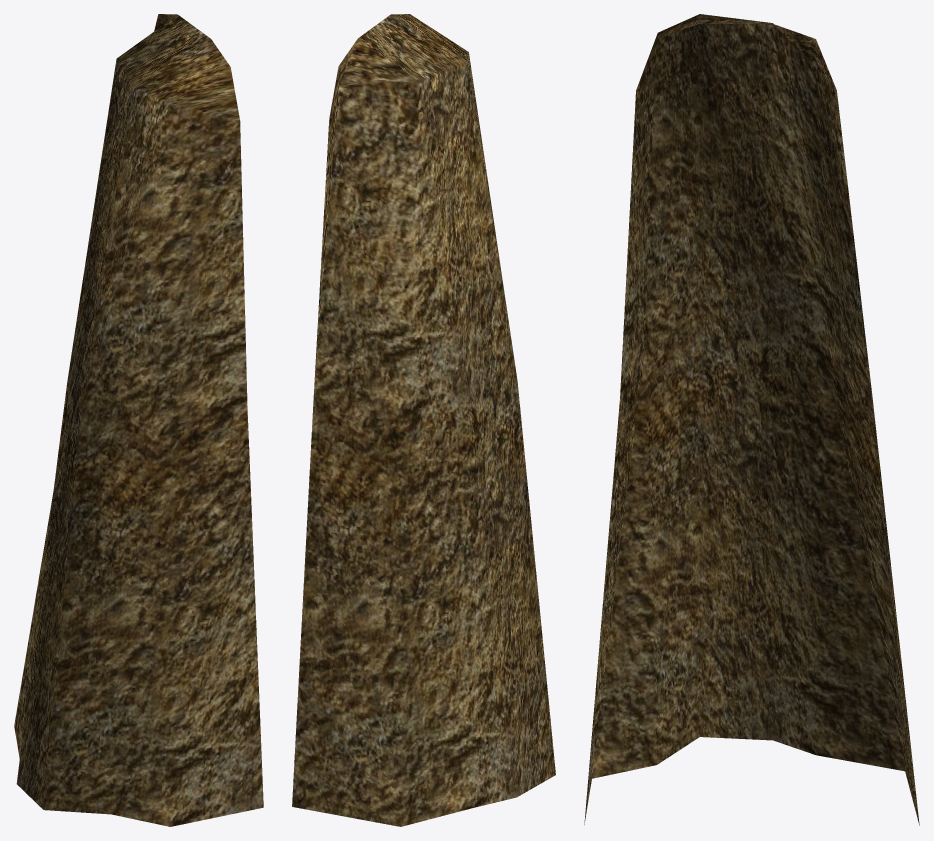
The model's file is hrz28.glb.
3 views of the same model, side by side, from view 1: azimuth 30°, elevation 25°; view 2: azimuth 150°, elevation 25°; view 3: azimuth 270°, elevation 25° (orthographic). The views are drawn at different scales.
Visible parts, largest first — view 1: hrz28-col; view 2: hrz28-col; view 3: hrz28-col.
Boxes of the visible parts, x1,y1,x2,y2 form: hrz28-col: (14,14,263,826); hrz28-col: (292,14,555,826); hrz28-col: (584,14,919,825).
Size of the model in its own units: 1.8 by 7.52 by 2.84.
Materials: 1 (1 with a texture image).
